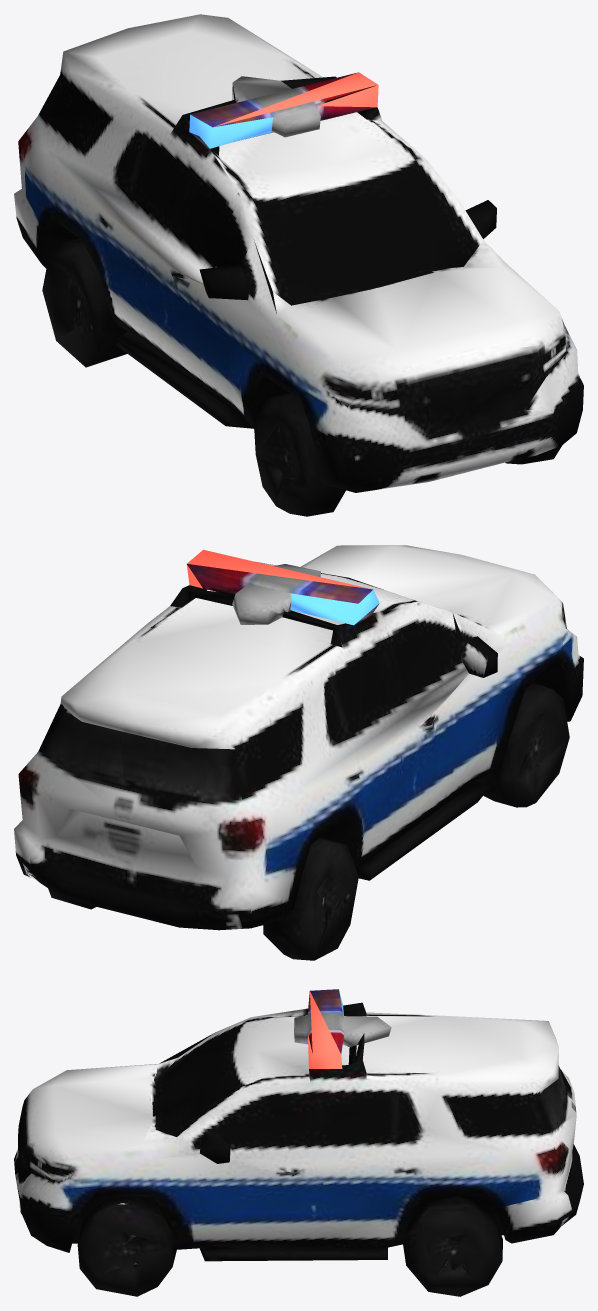
File: police_suv.glb
3 renders of one model, top to bottom at view 1: azimuth 30°, elevation 25°; view 2: azimuth 150°, elevation 25°; view 3: azimuth 270°, elevation 25°, orthographic. The views are drawn at different scales.
Parts seen in each view (by area): view 1: police_suv, police_suv_lightbar_red, police_suv_lightbar_blue; view 2: police_suv, police_suv_lightbar_red, police_suv_lightbar_blue; view 3: police_suv, police_suv_lightbar_red.
Boxes of the visible parts, bbox=[...] form: police_suv: bbox=[14, 14, 583, 516]; police_suv_lightbar_red: bbox=[214, 72, 378, 126]; police_suv_lightbar_blue: bbox=[189, 114, 273, 148]; police_suv: bbox=[14, 545, 583, 960]; police_suv_lightbar_red: bbox=[186, 549, 371, 589]; police_suv_lightbar_blue: bbox=[290, 590, 379, 625]; police_suv: bbox=[14, 989, 583, 1296]; police_suv_lightbar_red: bbox=[308, 991, 342, 1068].
Size of the model in its own units: 2.35 by 2.28 by 5.14.
3 materials, 1 textured.
